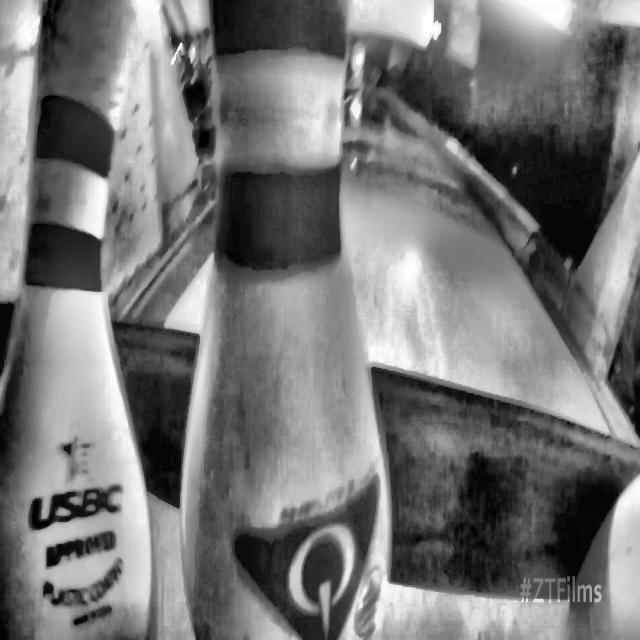bowling-pins: (181, 0, 391, 639), (0, 0, 150, 639)
